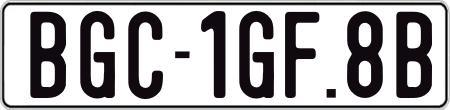1: (198, 11, 223, 104)
8: (345, 11, 387, 103)
B: (29, 9, 69, 96), (396, 11, 436, 98)
C: (128, 11, 168, 98)
F: (283, 11, 318, 103)
G: (78, 10, 118, 99), (237, 10, 275, 100)
